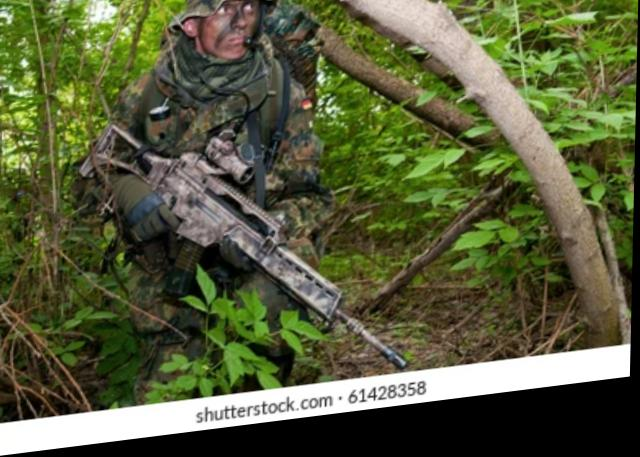other: (101, 0, 311, 286)
